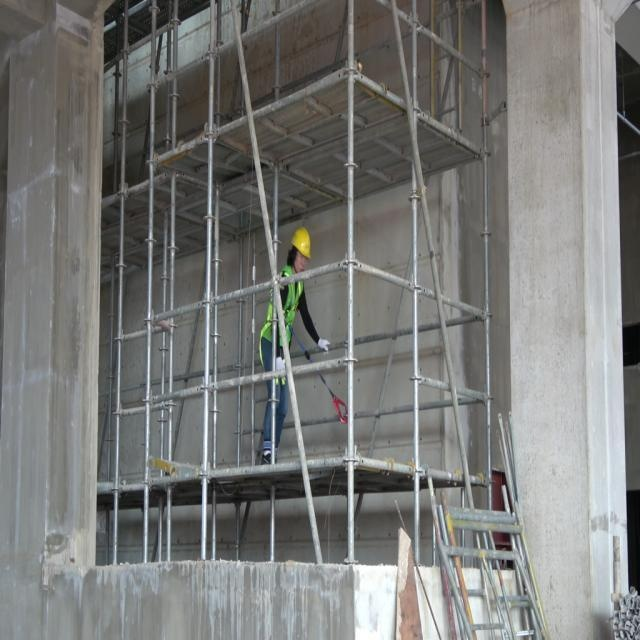Arnes_seguridad: (258, 267, 301, 386)
